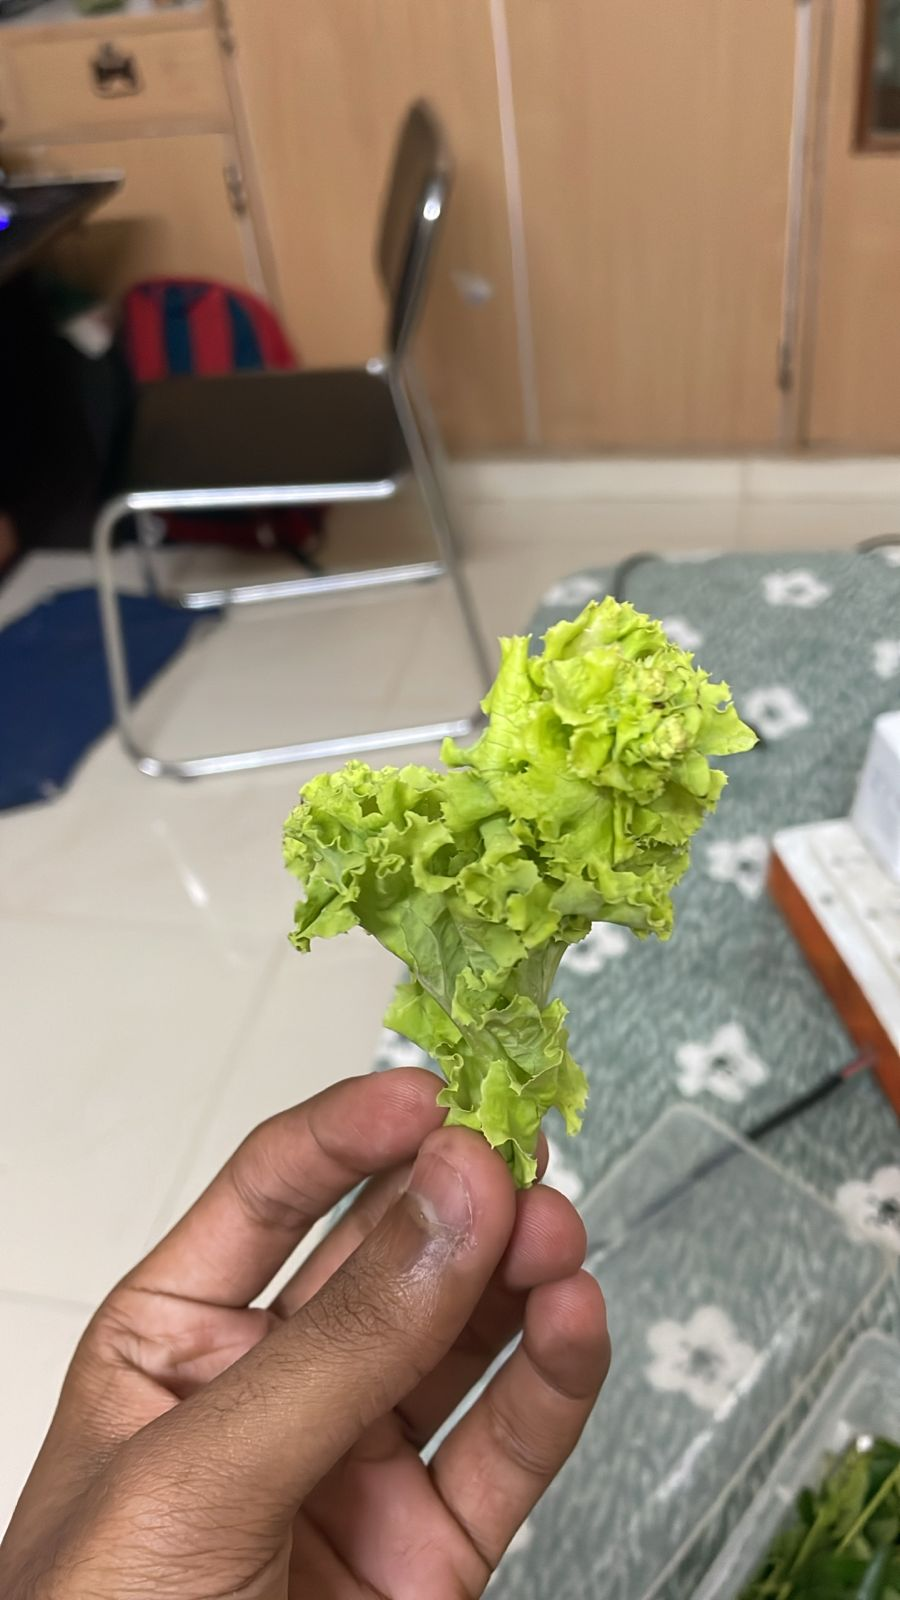wet: (249, 570, 736, 1193)
